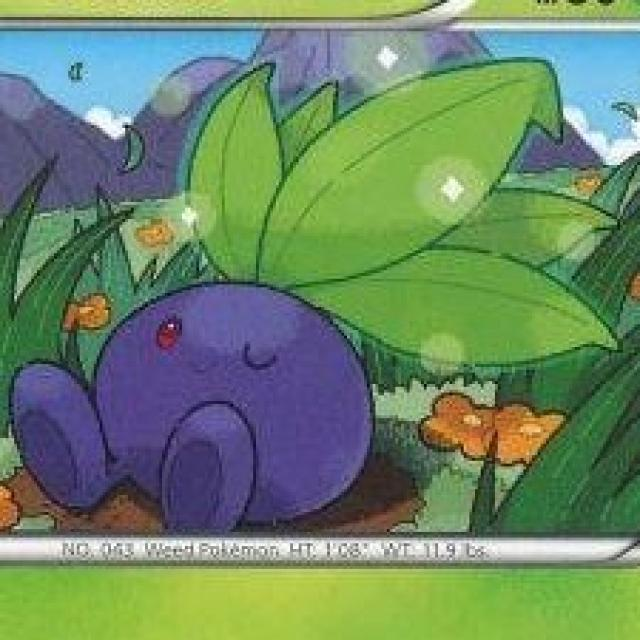Oddish: (57, 74, 559, 525)
